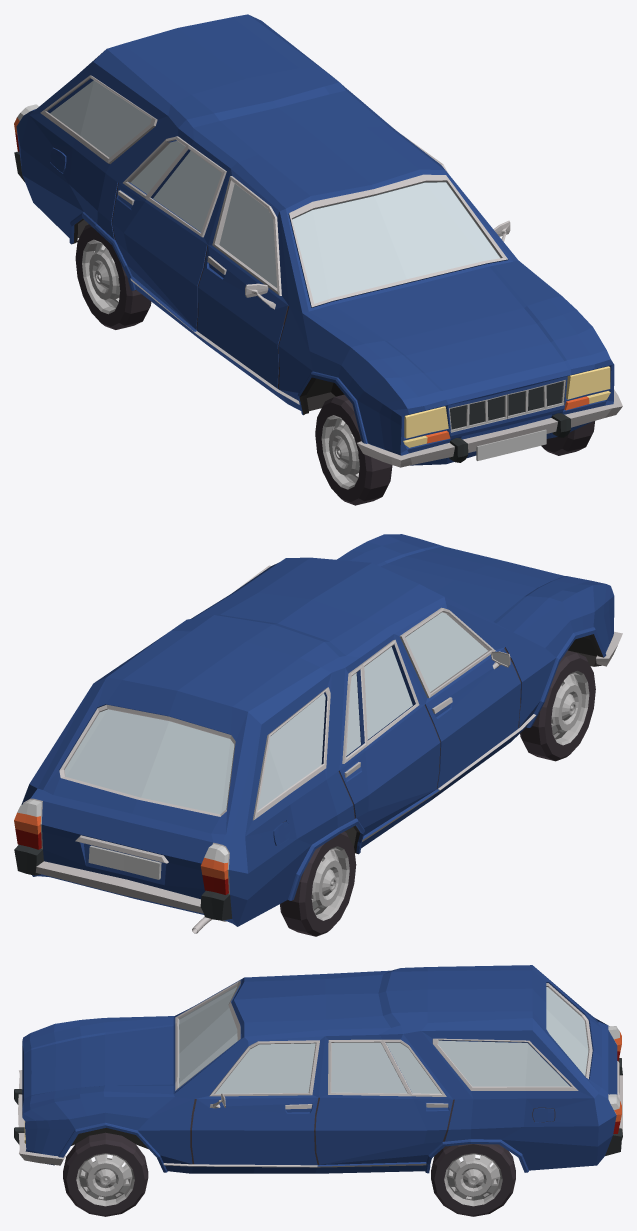
3 views of the same model, one above another, from view 1: azimuth 30°, elevation 25°; view 2: azimuth 150°, elevation 25°; view 3: azimuth 270°, elevation 25° (orthographic). The views are drawn at different scales.
Visible parts, largest first — view 1: Body, wheel_front_left, wheel_rear_left, wheel_front_right; view 2: Body, wheel_front_left, wheel_rear_left; view 3: Body, wheel_front_right, wheel_rear_right.
Boxes of the visible parts, x1,y1,x2,y2 form: Body: [14, 14, 622, 467]; wheel_front_left: [315, 394, 392, 505]; wheel_rear_left: [75, 224, 151, 329]; wheel_front_right: [541, 421, 594, 455]; Body: [14, 534, 622, 933]; wheel_front_left: [520, 650, 595, 761]; wheel_rear_left: [280, 831, 356, 936]; Body: [14, 965, 622, 1173]; wheel_front_right: [63, 1132, 148, 1216]; wheel_rear_right: [431, 1144, 515, 1216].
Bounding box in the file's own units: 1.85 × 1.62 × 4.8.
